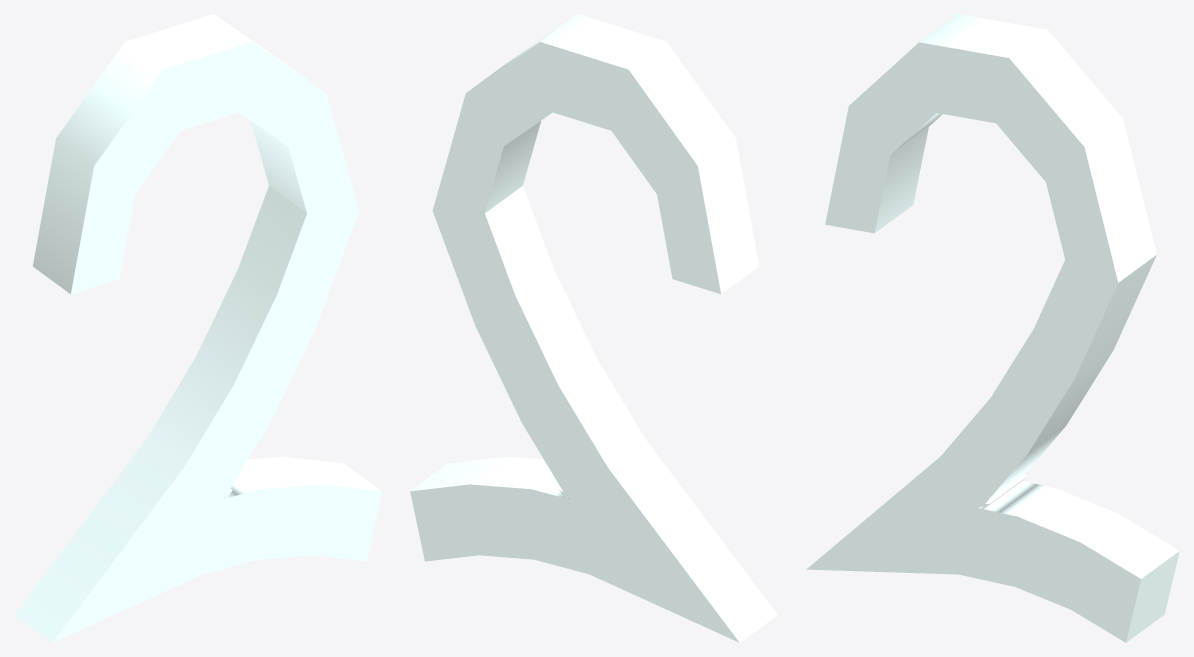
3 views of the same model, side by side, from view 1: azimuth 30°, elevation 25°; view 2: azimuth 150°, elevation 25°; view 3: azimuth 330°, elevation 25° (orthographic).
Visible parts, largest first — view 1: wall_1_1_1_31_37.001; view 2: wall_1_1_1_31_37.001; view 3: wall_1_1_1_31_37.001.
Boxes of the visible parts, <box> form: wall_1_1_1_31_37.001: <box>14,14,381,642</box>; wall_1_1_1_31_37.001: <box>410,14,777,642</box>; wall_1_1_1_31_37.001: <box>806,14,1179,642</box>.
Bounding box in the file's own units: 3.52 × 5.63 × 0.7034.
